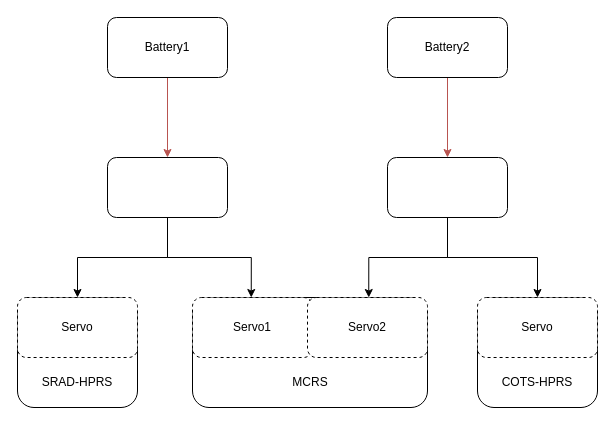
This 615x425 diagram has some shape labels left out. Each missing label, with the box of its shape:
FC-1 CATS VEGA: (106, 156, 228, 218)
FC-2 CATS VEGA: (386, 156, 508, 218)
